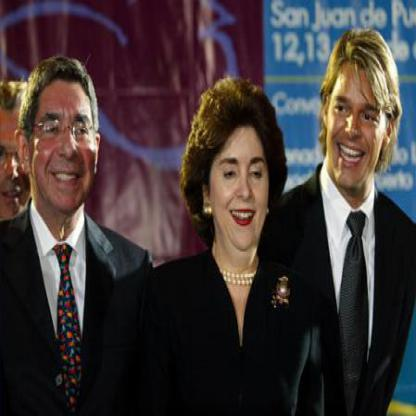face: (29, 59, 103, 215), (210, 98, 273, 252), (329, 39, 389, 192), (1, 88, 38, 223)
